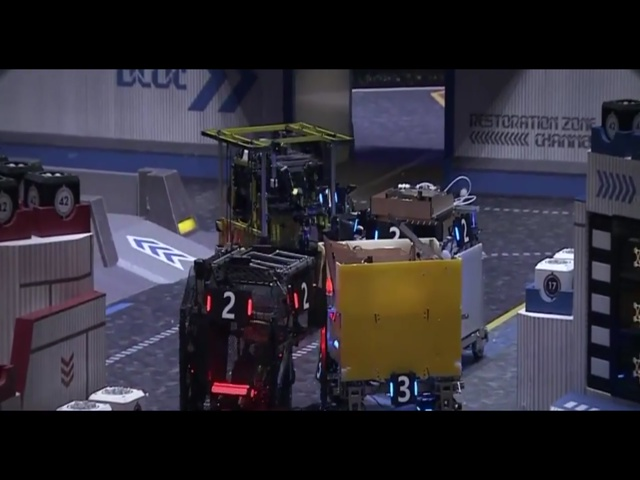plate: (202, 289, 259, 323), (386, 375, 422, 406), (288, 279, 315, 317), (368, 223, 409, 246), (448, 215, 477, 244), (316, 187, 344, 211)
